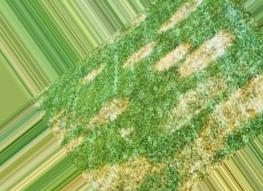patch: (92, 99, 130, 125), (153, 48, 189, 62), (85, 64, 104, 84)
